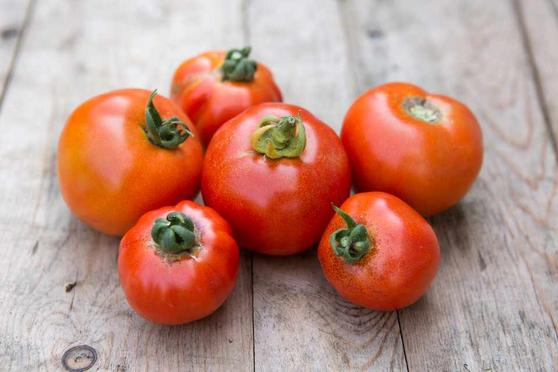tomato: (200, 101, 351, 253), (59, 89, 202, 225), (347, 83, 483, 210)
